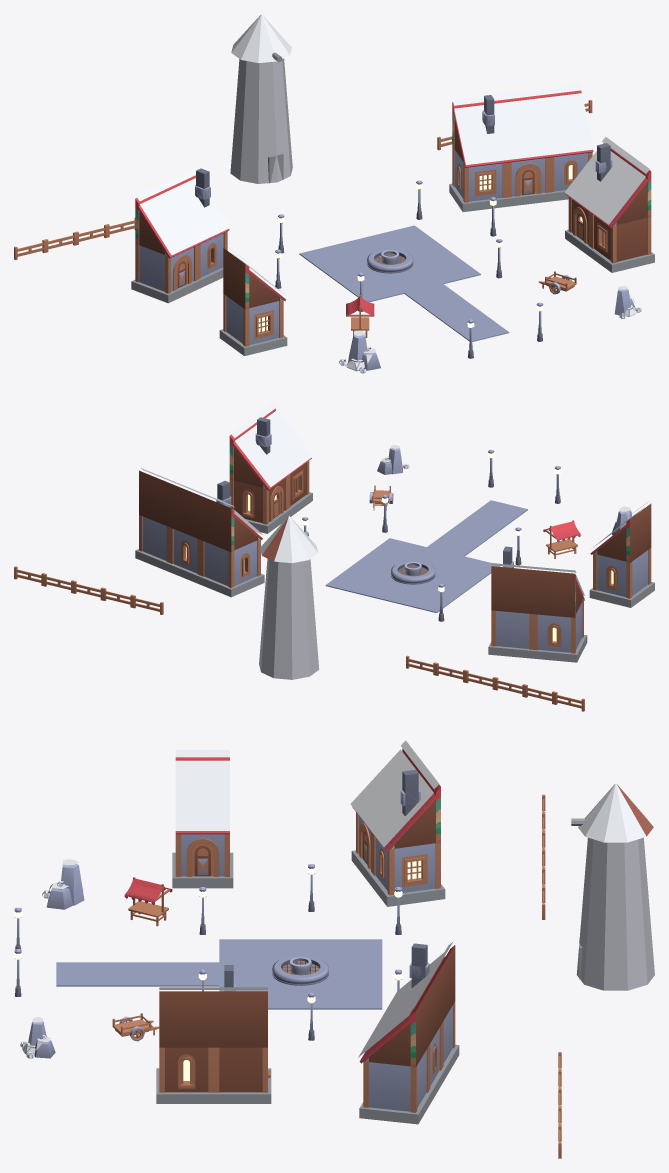
The model's file is village.glb.
3 views of the same model, one above another, from view 1: azimuth 30°, elevation 25°; view 2: azimuth 150°, elevation 25°; view 3: azimuth 270°, elevation 25° (orthographic). The views are drawn at different scales.
Visible parts, largest first — view 1: village; view 2: village; view 3: village.
Part boxes in pixels (box(x1,y1,x2,y2)): village: box(14, 14, 654, 373); village: box(14, 402, 654, 711); village: box(14, 740, 654, 1158).
Bounding box in the file's own units: 76 × 20 × 58.98.
7 materials, 1 textured.
